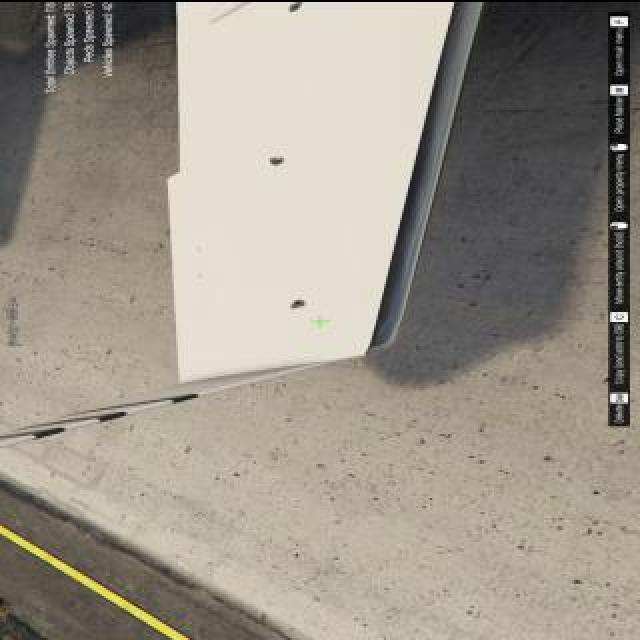crack: (267, 152, 291, 168), (293, 296, 313, 308), (282, 2, 308, 10)
